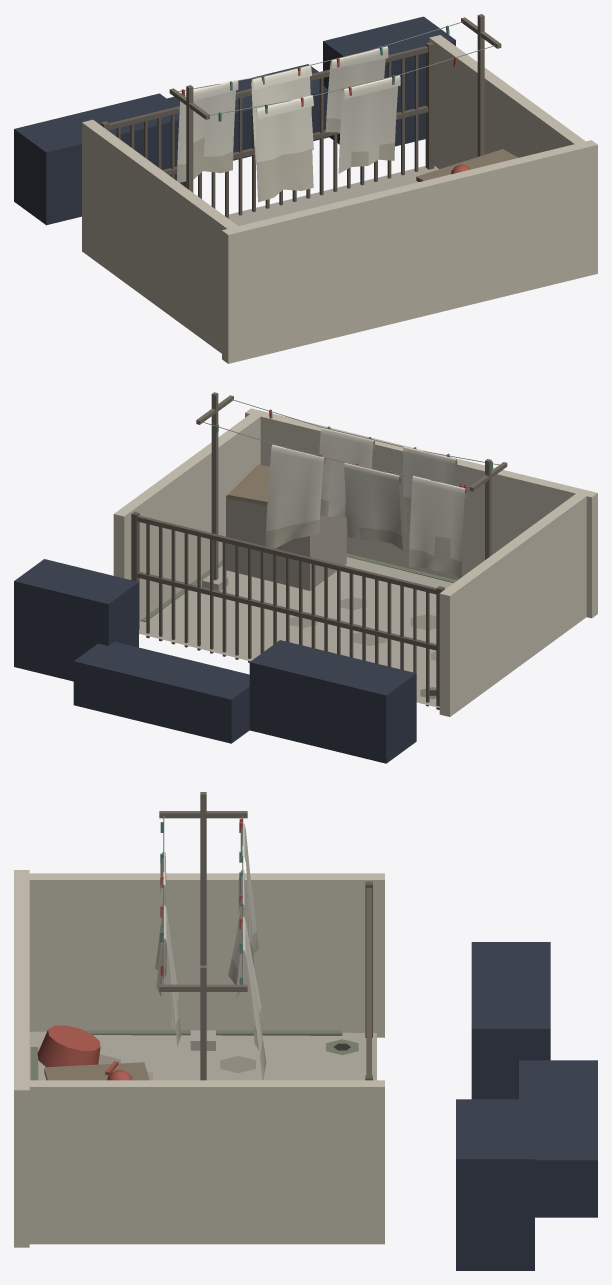
The model's file is SanPhoi_TangBa_Tong.glb.
3 renders of one model, top to bottom at view 1: azimuth 30°, elevation 25°; view 2: azimuth 150°, elevation 25°; view 3: azimuth 270°, elevation 25°, orthographic. The views are drawn at different scales.
Parts seen in each view (by area): view 1: ThamChieu_TuongNha, ThamChieu_TuongLuong_Trai, ThamChieu_TuongLuong_Phai, KhoiNhaXa_A, AoTang_Phoi_04, KhoiNhaXa_C, AoTang_Phoi_05, AoTang_Phoi_01, NenSanPhoi, AoTang_Phoi_03, AoTang_Phoi_02, KhoiNhaXa_B (+9 smaller); view 2: ThamChieu_TuongLuong_Trai, KhoiNhaXa_A, NenSanPhoi, ThamChieu_TuongNha, KhoiNhaXa_B, ThamChieu_TuongLuong_Phai, KhoiNhaXa_C, BeNuoc, AoTang_Phoi_03, AoTang_Phoi_01, AoTang_Phoi_02, AoTang_Phoi_05 (+11 smaller); view 3: ThamChieu_TuongLuong_Phai, ThamChieu_TuongLuong_Trai, KhoiNhaXa_C, KhoiNhaXa_A, KhoiNhaXa_B, NenSanPhoi, ThamChieu_TuongNha, ChauNhua, BeNuoc_Nap, Reu_ChanTuong_Trai, AoTang_Phoi_03, CotPhoi_1 (+8 smaller).
Part boxes in pixels (box(x1,y1,x2,y2)): ThamChieu_TuongNha: box(222, 140, 597, 363); ThamChieu_TuongLuong_Trai: box(82, 119, 240, 353); ThamChieu_TuongLuong_Phai: box(429, 35, 585, 168); KhoiNhaXa_A: box(14, 93, 184, 225); AoTang_Phoi_04: box(255, 95, 313, 202); KhoiNhaXa_C: box(323, 16, 455, 146); AoTang_Phoi_05: box(338, 75, 400, 173); AoTang_Phoi_01: box(177, 79, 238, 182); NenSanPhoi: box(224, 166, 438, 225); AoTang_Phoi_03: box(325, 46, 388, 133); AoTang_Phoi_02: box(251, 65, 313, 164); KhoiNhaXa_B: box(167, 64, 329, 160); ThamChieu_TuongLuong_Trai: box(439, 491, 588, 716); KhoiNhaXa_A: box(249, 640, 416, 763); NenSanPhoi: box(139, 557, 453, 707); ThamChieu_TuongNha: box(245, 408, 597, 618); KhoiNhaXa_B: box(73, 641, 249, 743); ThamChieu_TuongLuong_Phai: box(113, 412, 263, 621); KhoiNhaXa_C: box(14, 559, 138, 681); BeNuoc: box(226, 494, 346, 590); AoTang_Phoi_03: box(264, 444, 325, 553); AoTang_Phoi_01: box(409, 475, 466, 578); AoTang_Phoi_02: box(344, 463, 402, 550); AoTang_Phoi_05: box(319, 427, 374, 517); ThamChieu_TuongLuong_Phai: box(22, 1080, 384, 1244); ThamChieu_TuongLuong_Trai: box(22, 873, 384, 1037); KhoiNhaXa_C: box(456, 1099, 534, 1270); KhoiNhaXa_A: box(471, 942, 550, 1099); KhoiNhaXa_B: box(519, 1060, 597, 1217); NenSanPhoi: box(29, 1031, 376, 1080); ThamChieu_TuongNha: box(14, 870, 29, 1247); ChauNhua: box(37, 1025, 100, 1067); BeNuoc_Nap: box(44, 1062, 149, 1080); Reu_ChanTuong_Trai: box(84, 1030, 342, 1035); AoTang_Phoi_03: box(241, 917, 266, 1080); CotPhoi_1: box(200, 792, 206, 965).
Bounding box in the file's own units: 3.65 × 1.81 × 3.7.
